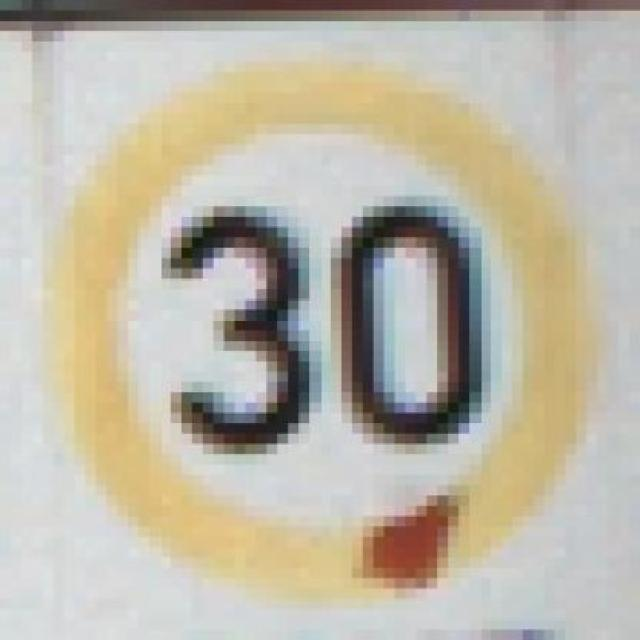Speed Limit 30 KMPh: (42, 41, 598, 599)
